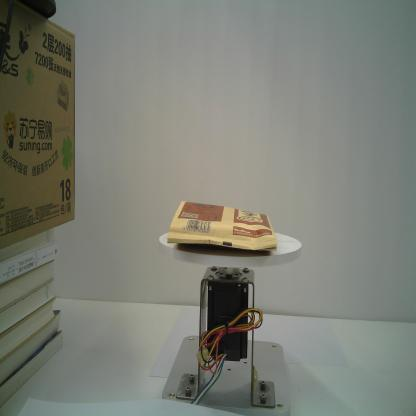Dried Food: (167, 199, 277, 252)
